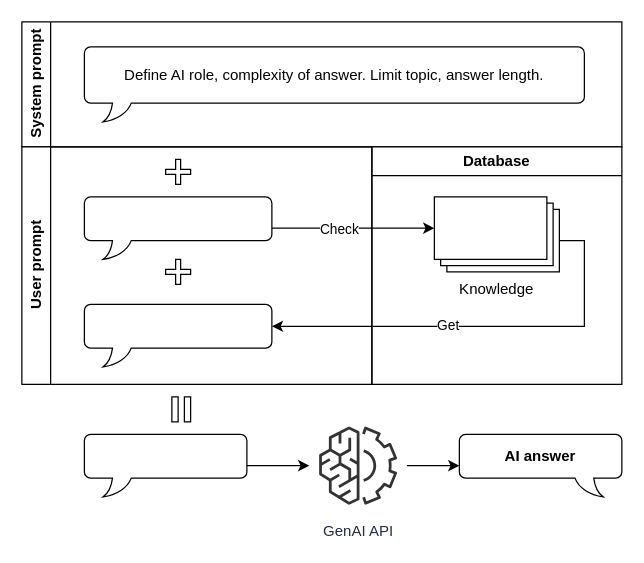
The diagram is 644 pixels wide and 563 high, and some of its shapes have lost their labels. The centre of each missing label's shape, as x and y in pixels:
Full prompt: point 165,465
Relevant knowledge: point 177,335
User's query: point 177,227
